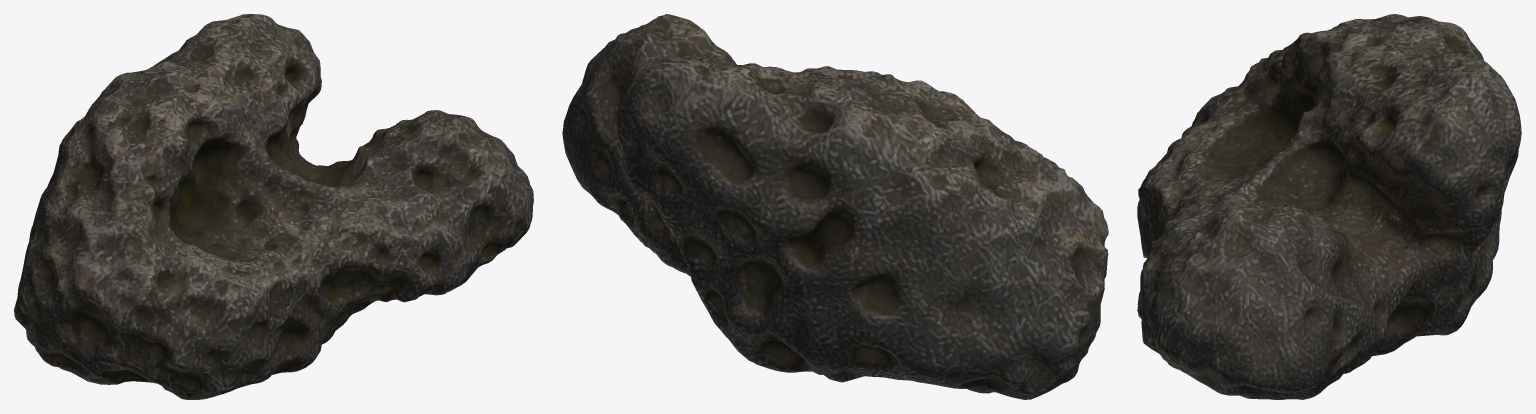
File: asteroid_uncommon_2_lod1.glb
3 renders of one model, left to right at view 1: azimuth 30°, elevation 25°; view 2: azimuth 150°, elevation 25°; view 3: azimuth 270°, elevation 25°, orthographic. The views are drawn at different scales.
Visible parts, largest first — view 1: model; view 2: model; view 3: model.
Part boxes in pixels (x1,y1,x2,y2): model: [14, 14, 533, 399]; model: [562, 14, 1108, 399]; model: [1137, 14, 1521, 399].
Bounding box in the file's own units: 1.89 × 1.04 × 1.15.
1 material, 1 textured.
